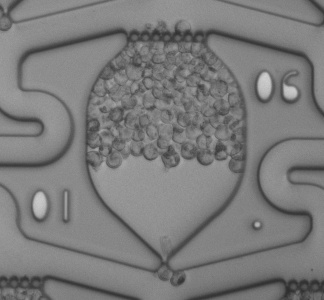AptNum: (253, 62, 305, 113)
Marker: (251, 218, 266, 233)
StNum: (25, 183, 77, 227)
